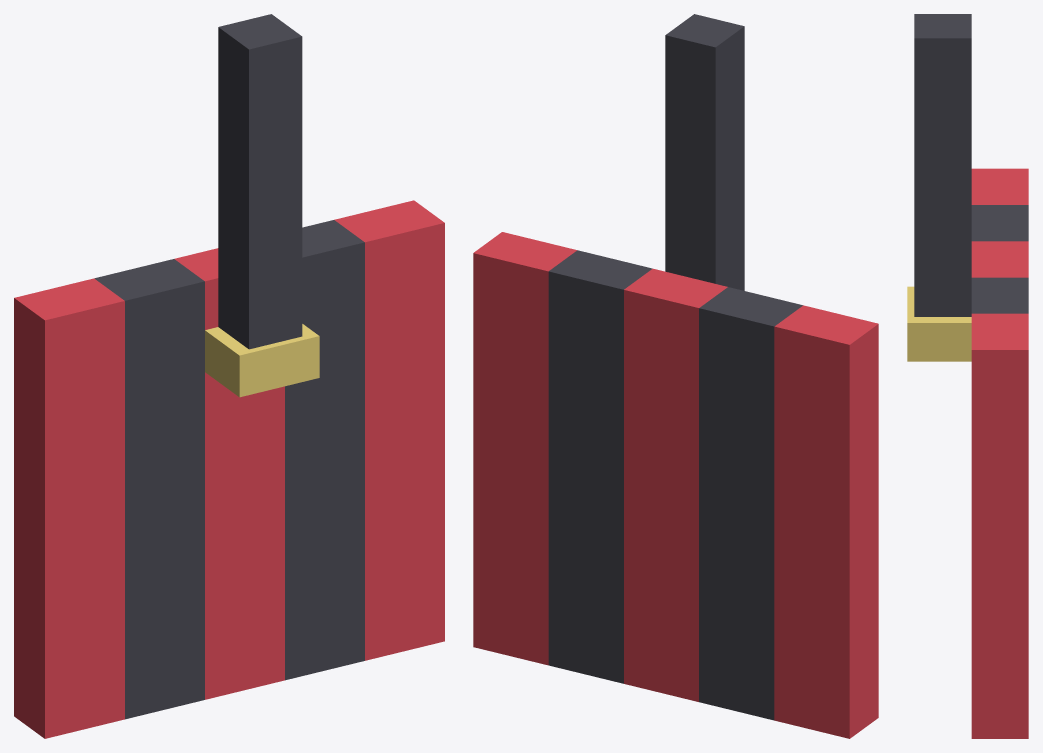
Rendered from leque_vermelho.glb.
3 views of the same model, side by side, from view 1: azimuth 30°, elevation 25°; view 2: azimuth 150°, elevation 25°; view 3: azimuth 270°, elevation 25° (orthographic). The views are drawn at different scales.
Visible parts, largest first — view 1: leque_vermelho; view 2: leque_vermelho; view 3: leque_vermelho.
Part boxes in pixels (x1,y1,x2,y2): leque_vermelho: (14, 14, 444, 738); leque_vermelho: (473, 14, 878, 738); leque_vermelho: (907, 14, 1028, 738).
Size of the model in its own units: 0.3 by 0.48 by 0.085.
